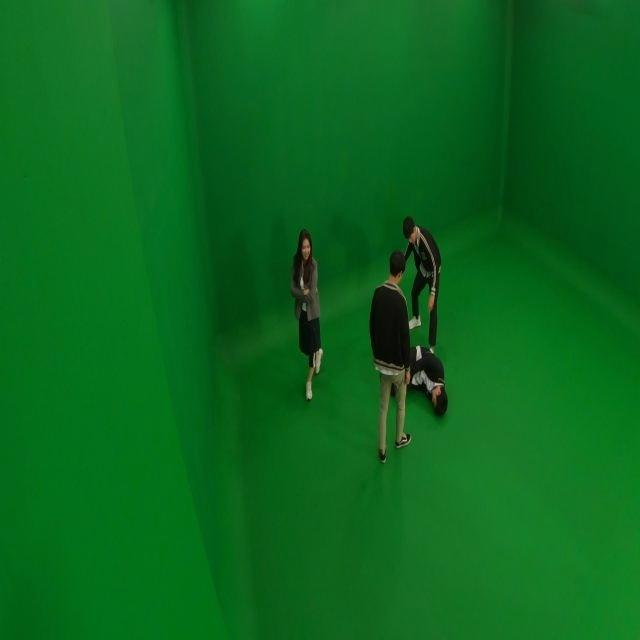fight: (376, 215, 455, 417)
non-fight: (366, 246, 414, 462), (291, 228, 325, 398)
